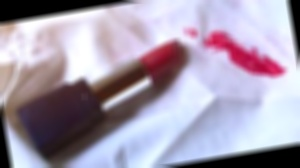lipstick: (204, 30, 283, 86), (192, 23, 237, 65), (182, 22, 206, 42)
